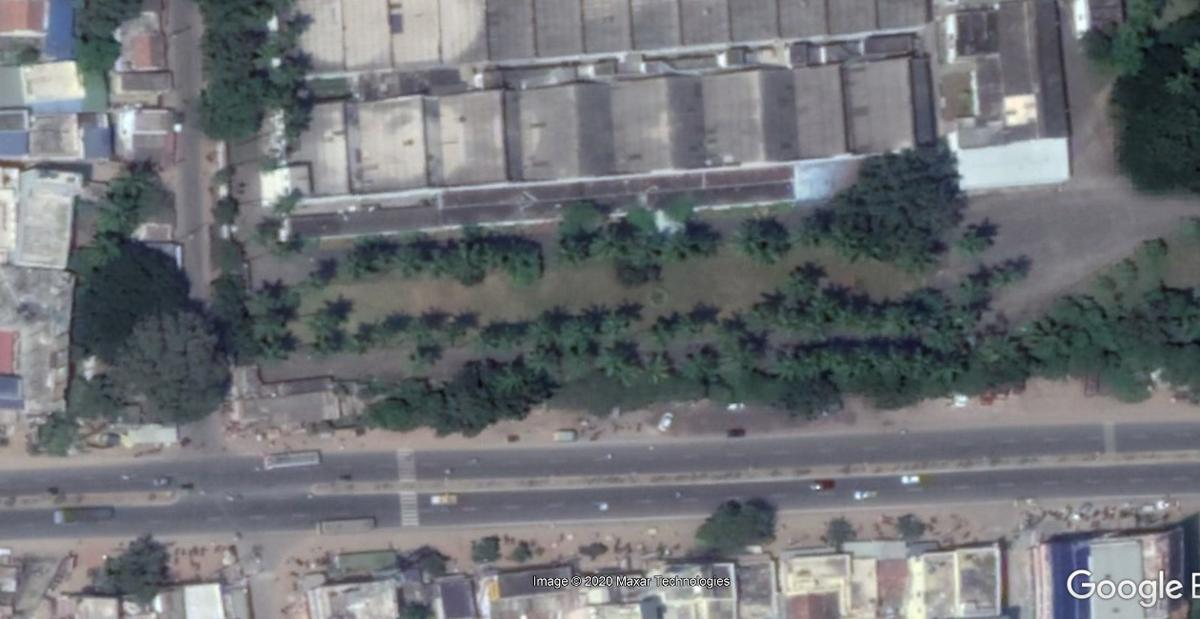coconut: (1027, 314, 1069, 359), (556, 311, 598, 353), (444, 241, 487, 282), (584, 225, 624, 268), (389, 240, 433, 279), (641, 349, 682, 389), (86, 232, 129, 268), (402, 340, 441, 379), (88, 198, 135, 230), (735, 218, 773, 257), (807, 287, 850, 320), (276, 99, 311, 139), (597, 346, 635, 381), (878, 343, 914, 379), (656, 228, 692, 264), (723, 337, 766, 366), (334, 245, 374, 276), (884, 296, 924, 327), (525, 346, 561, 380), (526, 316, 560, 352), (269, 56, 306, 89), (252, 334, 289, 366), (773, 348, 805, 384), (679, 349, 717, 379), (857, 296, 887, 334), (488, 361, 521, 395), (784, 264, 816, 299), (839, 226, 872, 259), (594, 307, 628, 339), (925, 350, 960, 381), (246, 282, 282, 312), (112, 171, 147, 199), (651, 307, 683, 337), (959, 228, 997, 253), (351, 319, 379, 352), (795, 210, 823, 241), (308, 303, 342, 322), (414, 311, 444, 332)
